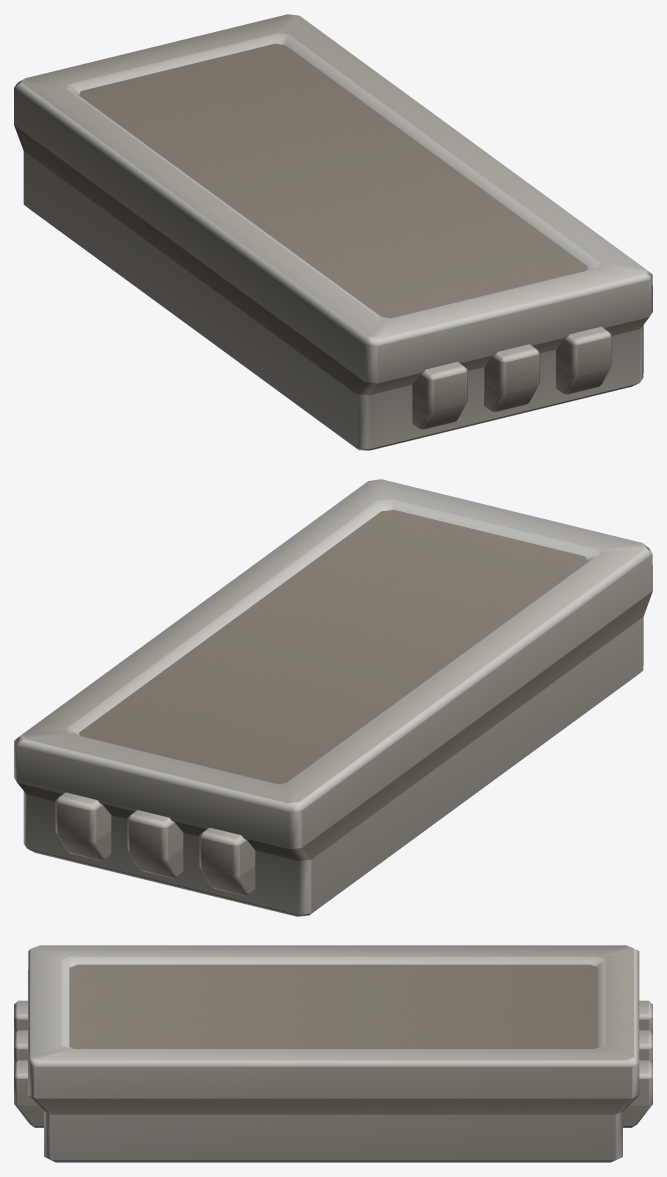
Rendered from appartment_type1_roof_type2_x2_flat.fbx.
3 views of the same model, one above another, from view 1: azimuth 30°, elevation 25°; view 2: azimuth 150°, elevation 25°; view 3: azimuth 270°, elevation 25° (orthographic). The views are drawn at different scales.
Parts seen in each view (by area): view 1: appartment_type1_roof_type2_x2_flat; view 2: appartment_type1_roof_type2_x2_flat; view 3: appartment_type1_roof_type2_x2_flat.
Boxes of the visible parts, x1,y1,x2,y2 form: appartment_type1_roof_type2_x2_flat: (14,14,652,450); appartment_type1_roof_type2_x2_flat: (14,479,652,916); appartment_type1_roof_type2_x2_flat: (14,945,652,1162).
Size of the model in its own units: 400 by 160 by 907.
